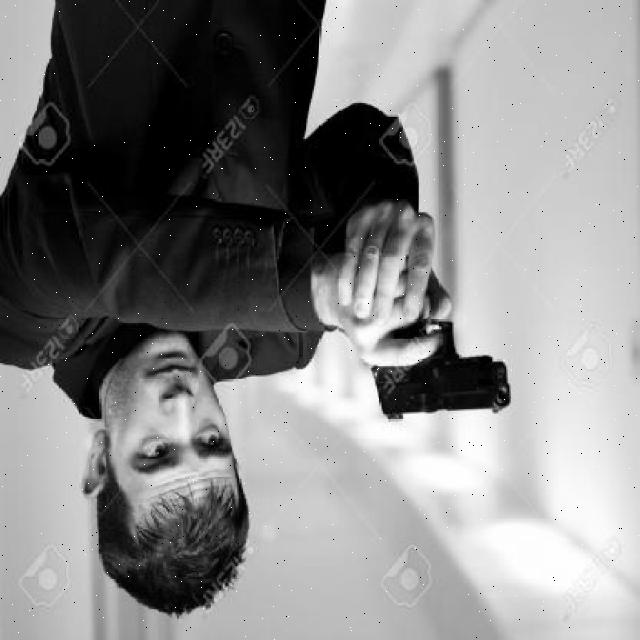gun: (322, 233, 540, 454)
